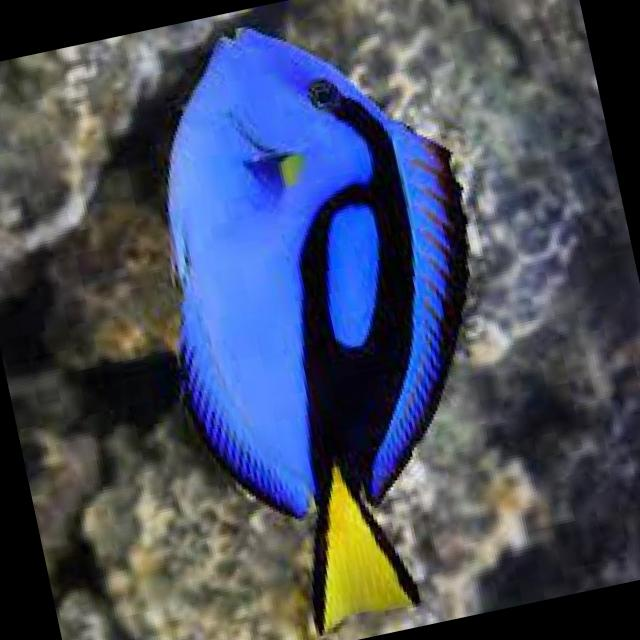BlueTang: (113, 0, 538, 640)
